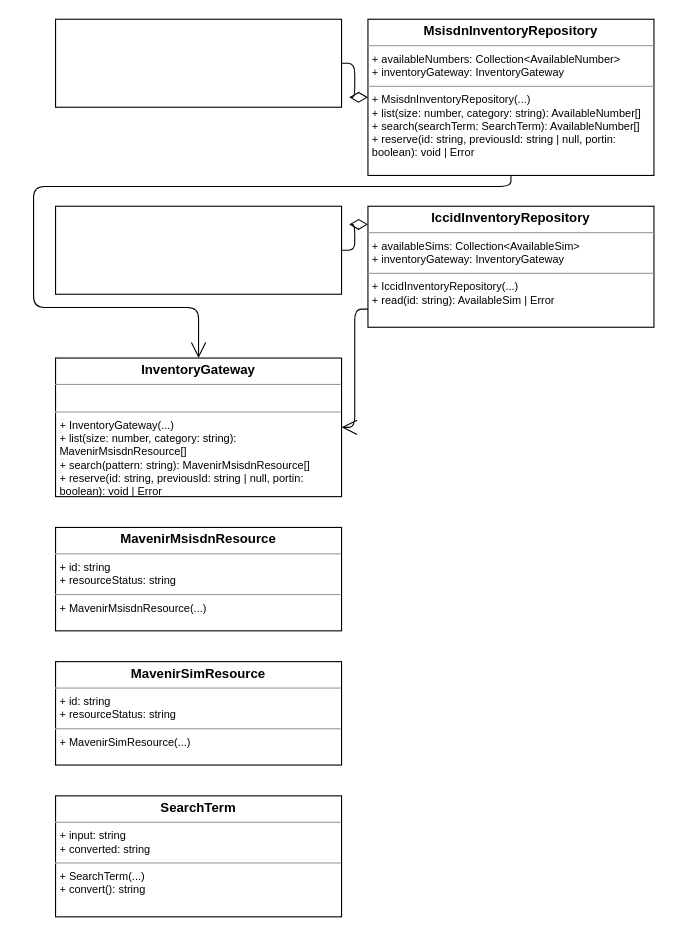
The diagram is 673 pixels wide and 936 high, and some of its shapes have lost their labels. Here are the shapes that lost their labels. From the top down, the centre of each, then its label:
At point (198, 62): "AvailableNumber + id: string + AvailableNumber(...)".
At point (198, 249): "AvailableSim + id: string + AvailableSim(...)".
